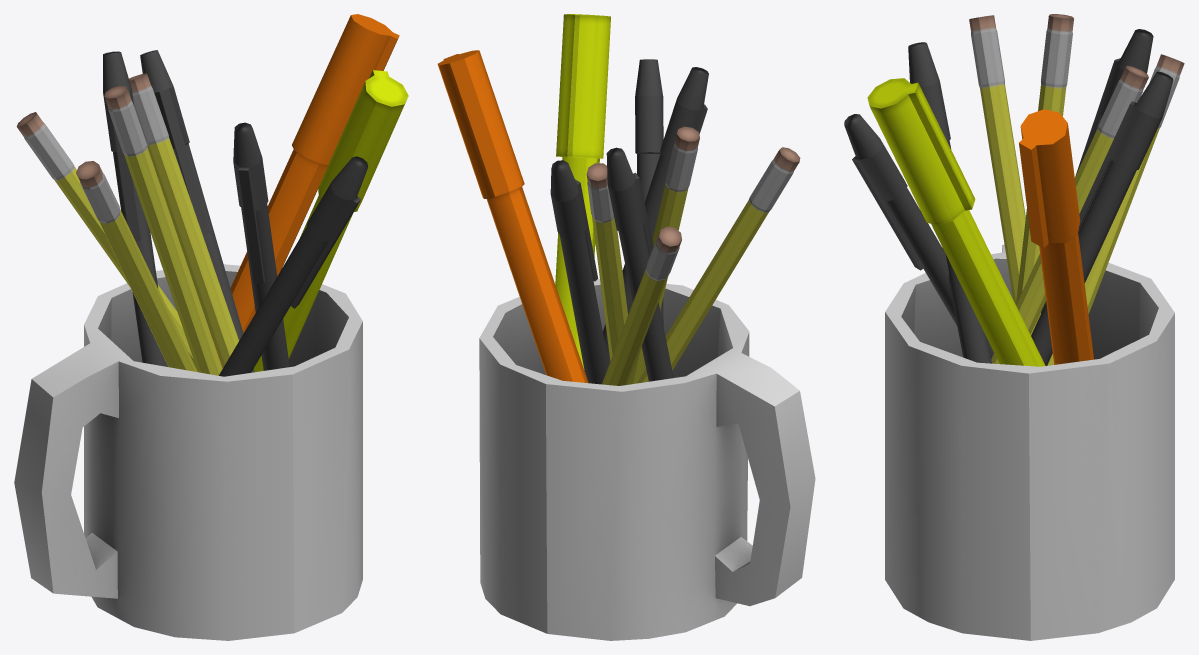
Rendered from mug 1.fbx.
3 views of the same model, side by side, from view 1: azimuth 30°, elevation 25°; view 2: azimuth 150°, elevation 25°; view 3: azimuth 270°, elevation 25° (orthographic). The views are drawn at different scales.
Parts seen in each view (by area): view 1: Cylinder, Cylinder.014, Cylinder.001, Cylinder.004, Cylinder.002, Cylinder.013, Cylinder.009, Cylinder.010, Cylinder.008, Cylinder.011, Cylinder.012; view 2: Cylinder, Cylinder.014, Cylinder.013, Cylinder.008, Cylinder.009, Cylinder.011, Cylinder.002, Cylinder.012, Cylinder.010, Cylinder.004, Cylinder.001; view 3: Cylinder, Cylinder.013, Cylinder.014, Cylinder.008, Cylinder.009, Cylinder.004, Cylinder.002, Cylinder.010, Cylinder.001, Cylinder.012, Cylinder.011.
Part boxes in pixels (x1=…): Cylinder: x1=14, y1=264, x2=362, y2=640; Cylinder.014: x1=210, y1=14, x2=399, y2=368; Cylinder.001: x1=104, y1=85, x2=222, y2=375; Cylinder.004: x1=219, y1=156, x2=368, y2=376; Cylinder.002: x1=129, y1=73, x2=238, y2=367; Cylinder.013: x1=253, y1=70, x2=408, y2=372; Cylinder.009: x1=76, y1=161, x2=197, y2=372; Cylinder.010: x1=233, y1=122, x2=289, y2=370; Cylinder.008: x1=140, y1=50, x2=254, y2=372; Cylinder.011: x1=103, y1=51, x2=167, y2=366; Cylinder.012: x1=16, y1=112, x2=197, y2=370; Cylinder: x1=479, y1=278, x2=815, y2=640; Cylinder.014: x1=437, y1=50, x2=588, y2=383; Cylinder.013: x1=555, y1=14, x2=610, y2=369; Cylinder.008: x1=550, y1=160, x2=608, y2=384; Cylinder.009: x1=637, y1=147, x2=800, y2=383; Cylinder.011: x1=606, y1=147, x2=673, y2=381; Cylinder.002: x1=586, y1=163, x2=627, y2=361; Cylinder.012: x1=602, y1=226, x2=681, y2=385; Cylinder.010: x1=603, y1=67, x2=708, y2=364; Cylinder.004: x1=635, y1=59, x2=663, y2=326; Cylinder.001: x1=627, y1=126, x2=699, y2=384; Cylinder: x1=885, y1=244, x2=1174, y2=640; Cylinder.013: x1=867, y1=78, x2=1045, y2=366; Cylinder.014: x1=1019, y1=109, x2=1093, y2=364; Cylinder.008: x1=1031, y1=71, x2=1173, y2=365; Cylinder.009: x1=969, y1=15, x2=1040, y2=314; Cylinder.004: x1=844, y1=114, x2=993, y2=358; Cylinder.002: x1=991, y1=65, x2=1148, y2=363; Cylinder.010: x1=908, y1=42, x2=991, y2=363; Cylinder.001: x1=1016, y1=14, x2=1073, y2=335; Cylinder.012: x1=1047, y1=54, x2=1184, y2=365; Cylinder.011: x1=1041, y1=29, x2=1153, y2=313.
Bounding box in the file's own units: 48.89 × 66.19 × 37.47.
5 materials, 5 textured.
